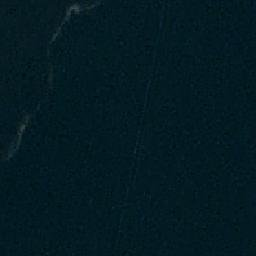debris: (58, 3, 95, 23), (14, 113, 33, 136), (5, 139, 20, 159), (46, 27, 61, 42)
